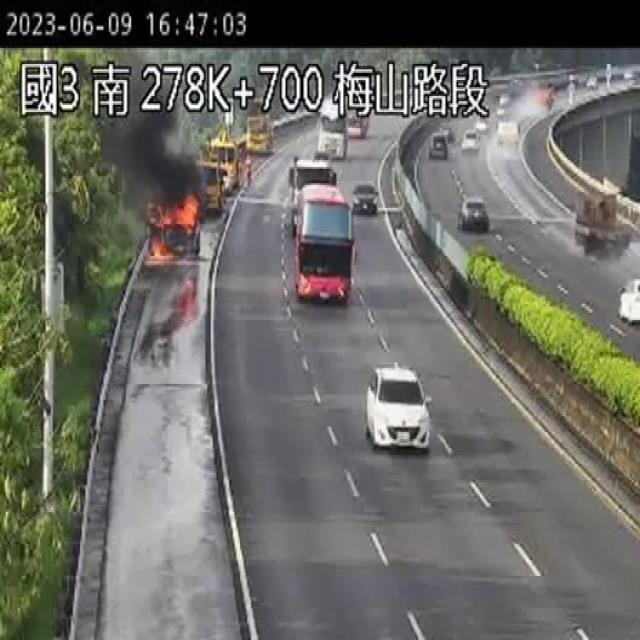Fire: (143, 196, 201, 262)
Smoke: (96, 106, 202, 209)
